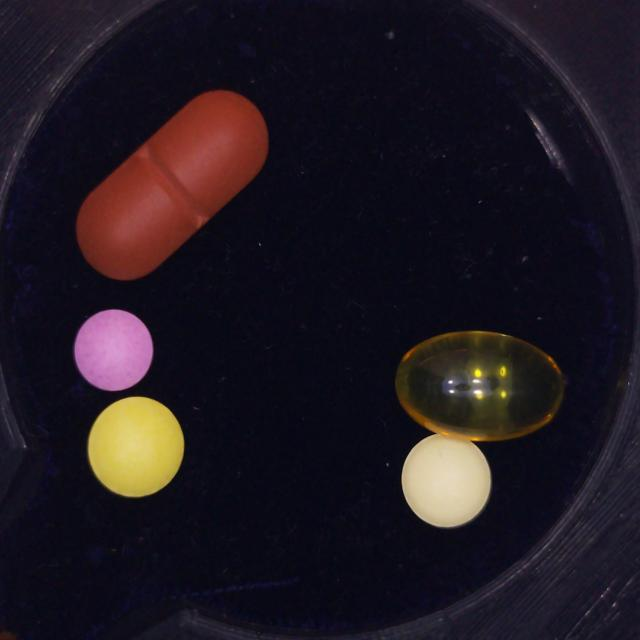Pill: (76, 90, 269, 280), (396, 331, 564, 441), (87, 397, 184, 498), (402, 434, 491, 527), (74, 309, 153, 391)
